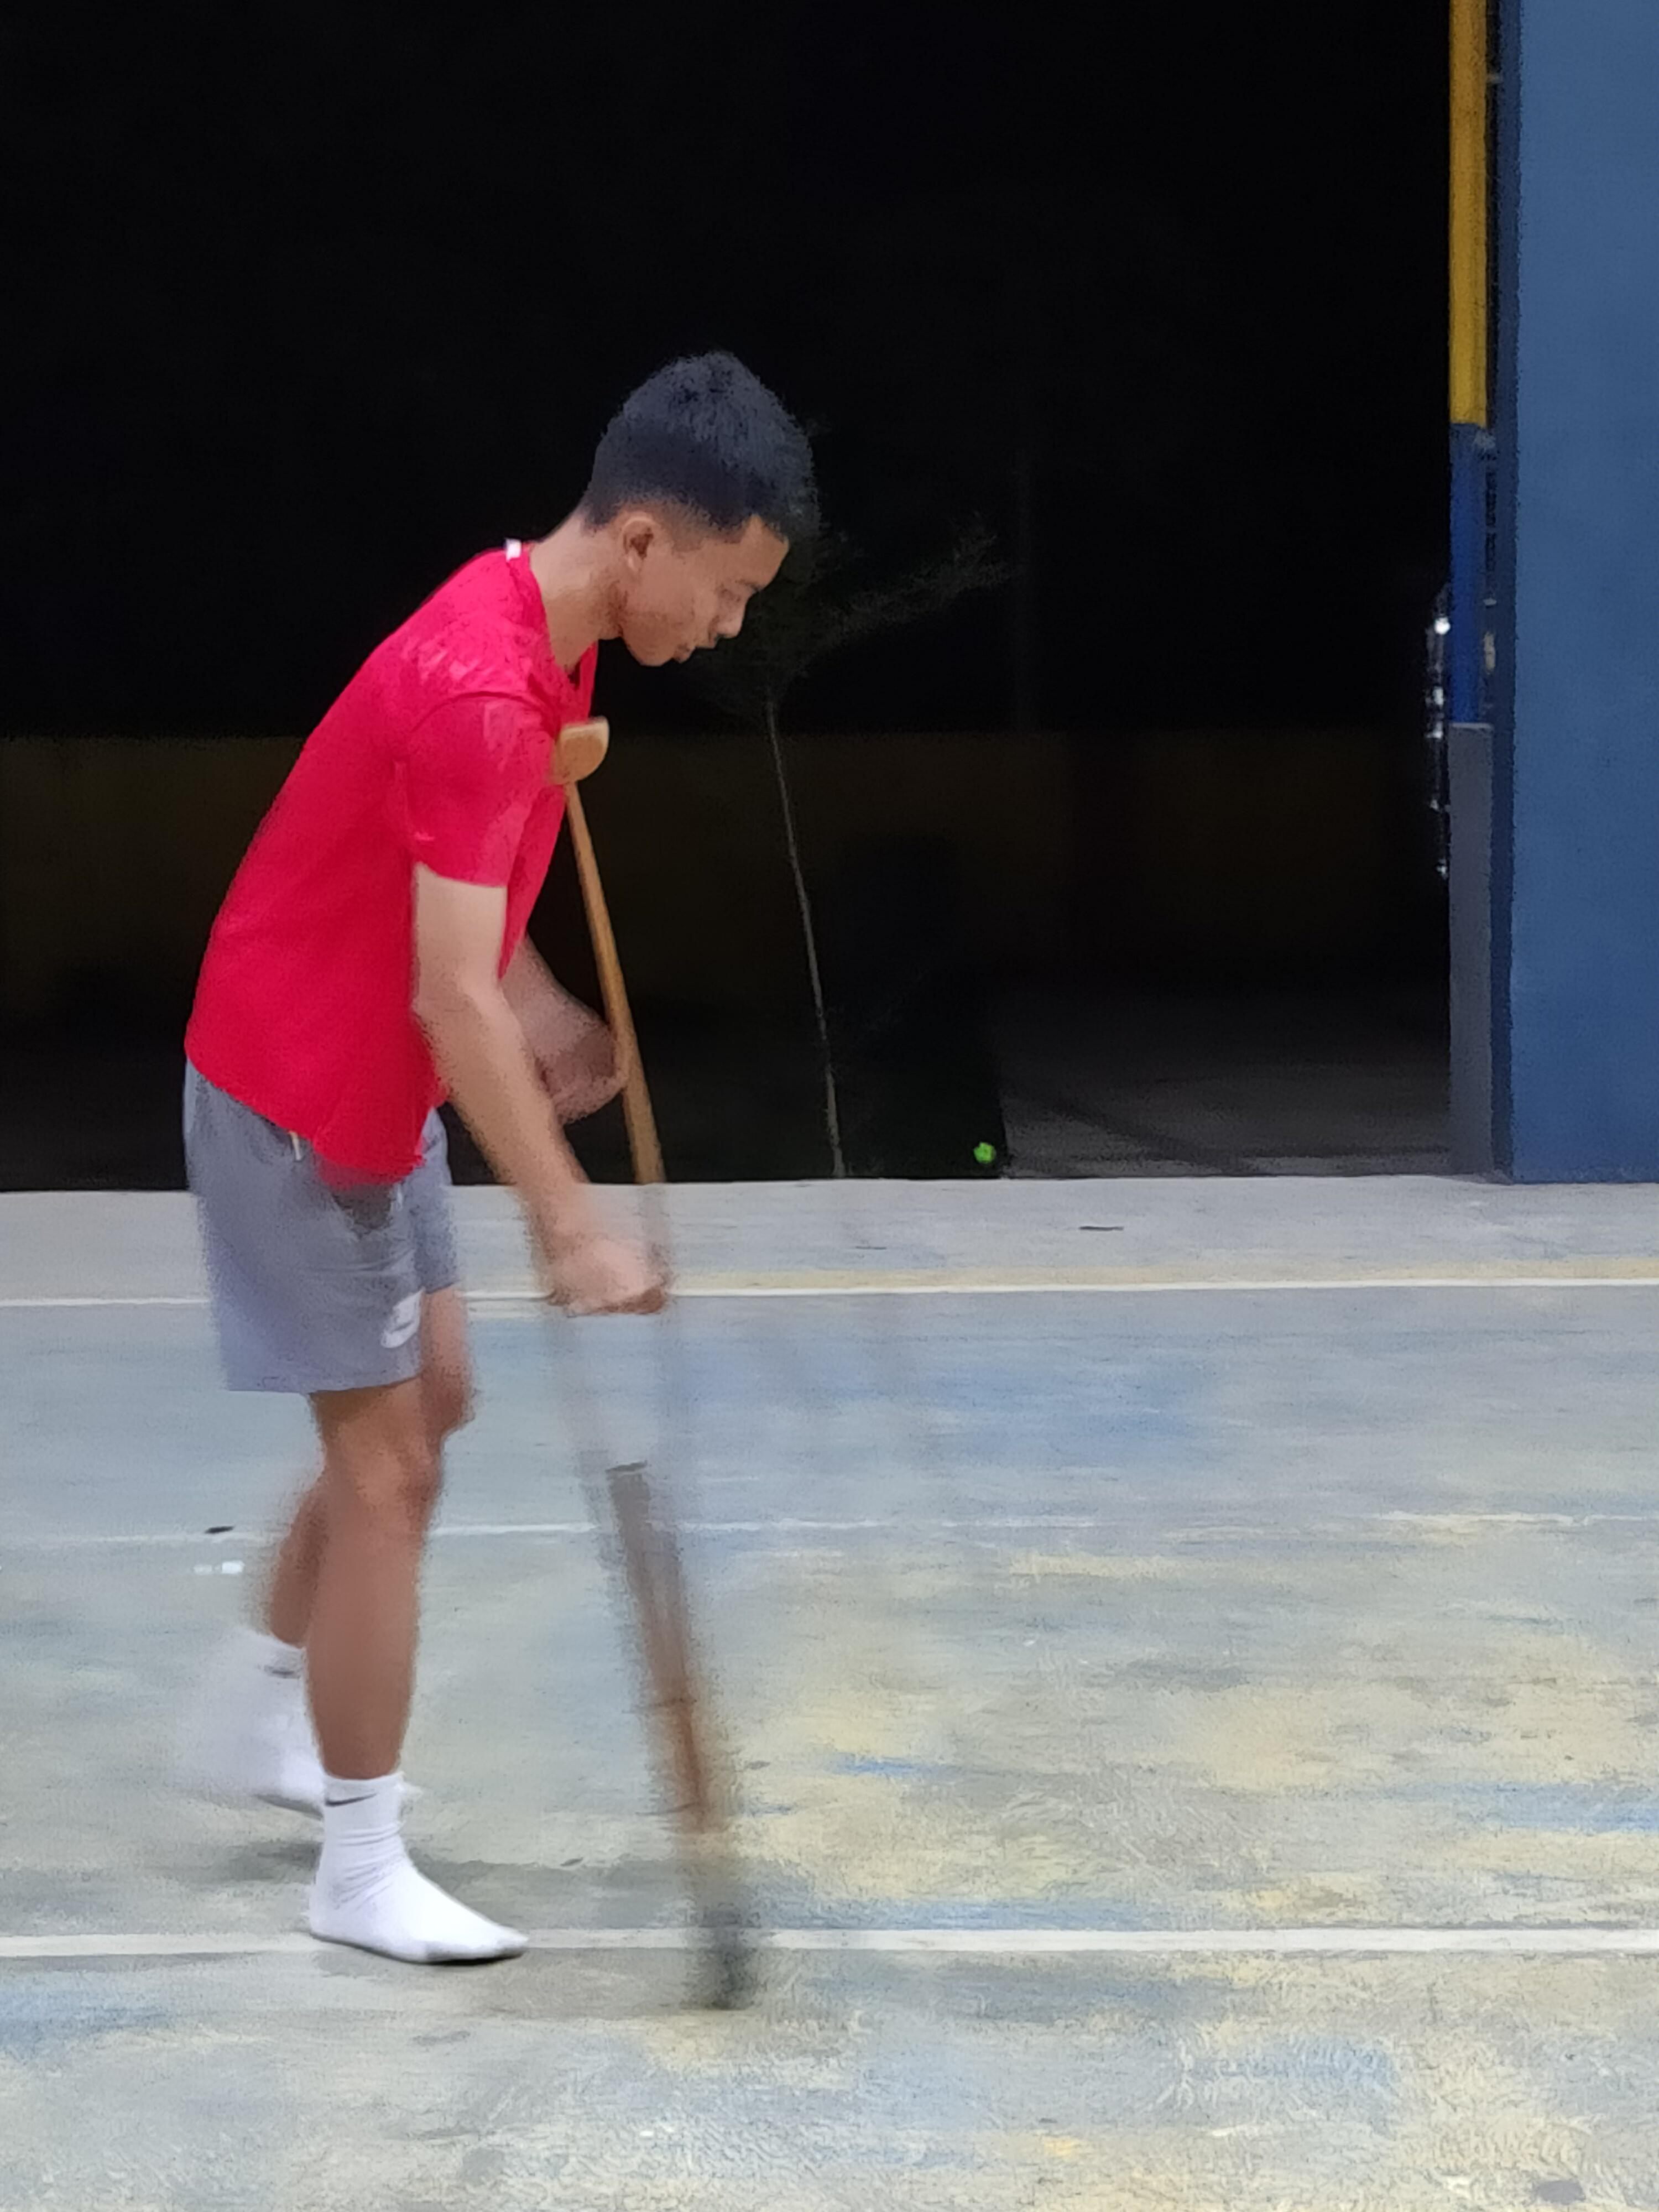crutches: (173, 338, 845, 2022)
